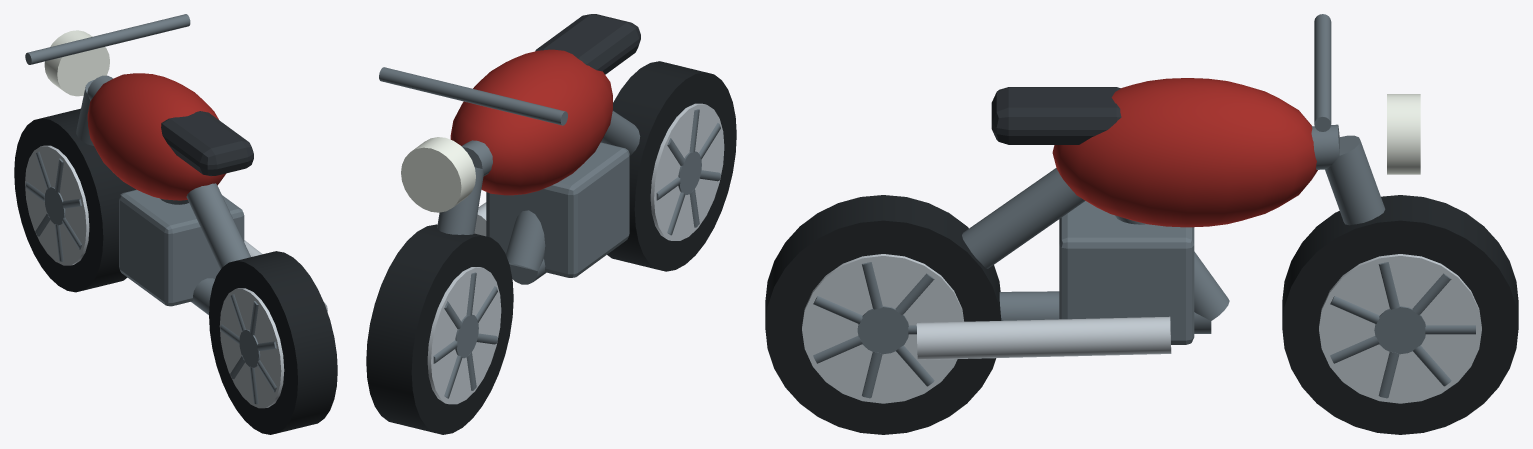
File: Arrow_Motorcycle.fbx
3 renders of one model, left to right at view 1: azimuth 30°, elevation 25°; view 2: azimuth 150°, elevation 25°; view 3: azimuth 270°, elevation 25°, orthographic. The views are drawn at different scales.
Parts seen in each view (by area): view 1: Body.009, Wheel_R, Wheel_F, Headlamp; view 2: Body.009, Wheel_F, Wheel_R, Headlamp; view 3: Body.009, Wheel_F, Wheel_R, Headlamp.
Part boxes in pixels (box(x1,y1,x2,y2)): Body.009: box(25, 14, 327, 314); Wheel_R: box(209, 251, 337, 434); Wheel_F: box(14, 108, 135, 292); Headlamp: box(44, 30, 109, 96); Body.009: box(379, 14, 640, 284); Wheel_F: box(366, 224, 513, 434); Wheel_R: box(607, 61, 736, 271); Headlamp: box(401, 137, 475, 212); Body.009: box(916, 14, 1385, 359); Wheel_F: box(1282, 195, 1518, 434); Wheel_R: box(765, 195, 1001, 434); Headlamp: box(1387, 94, 1420, 174).
Size of the model in its own units: 0.72 by 1.16 by 2.23.
